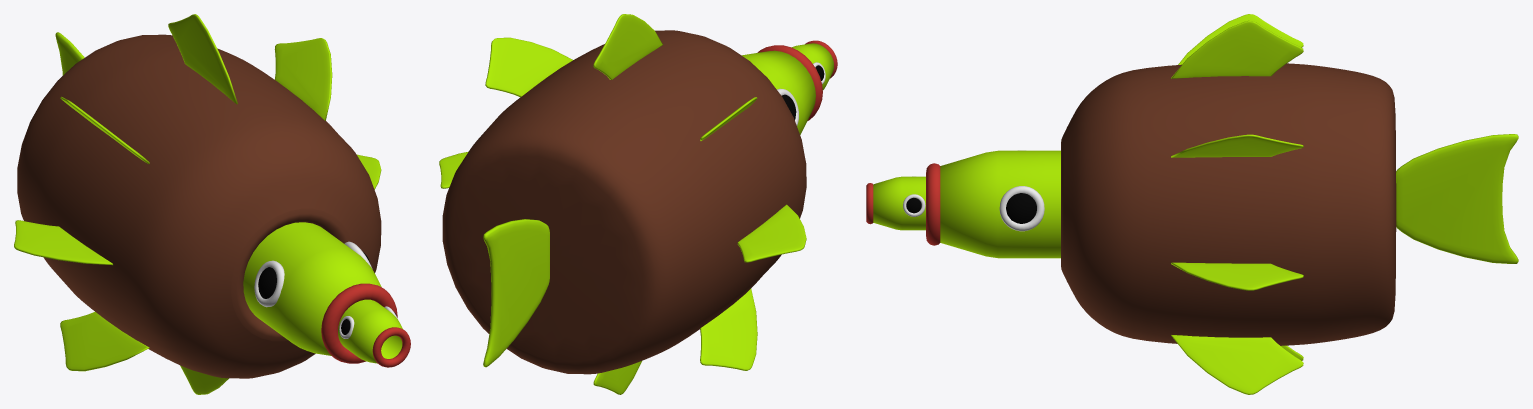
Rendered from JarFish.fbx.
The picture shows the model from 3 angles, left to right: view 1: azimuth 30°, elevation 25°; view 2: azimuth 150°, elevation 25°; view 3: azimuth 270°, elevation 25°; orthographic projection. The views are drawn at different scales.
Visible parts, largest first — view 1: Jar, Fins, FishBody, BodySmall, MouthBig, MouthSmall, EyeLids, BackFin, Eyes; view 2: Jar, Fins, BackFin, FishBody, MouthBig, BodySmall; view 3: Jar, Fins, BackFin, FishBody, BodySmall, MouthBig, EyeLids, Eyes.
Part boxes in pixels (x1,y1,x2,y2): Jar: (17,34,381,378); Fins: (14,14,381,394); FishBody: (243,222,381,355); BodySmall: (338,299,402,363); MouthBig: (321,283,397,363); MouthSmall: (372,327,410,367); EyeLids: (254,241,372,307); BackFin: (55,32,84,75); Eyes: (258,251,370,298); Jar: (442,30,806,374); Fins: (439,14,806,394); BackFin: (483,219,549,367); FishBody: (742,50,815,134); MouthBig: (757,45,822,120); BodySmall: (791,43,833,90); Jar: (1061,63,1396,345); Fins: (1171,14,1303,394); BackFin: (1396,134,1518,263); FishBody: (940,150,1060,258); BodySmall: (873,176,925,230); MouthBig: (926,163,940,245); EyeLids: (999,150,1044,231); Eyes: (1006,193,1036,223).
Size of the model in its own units: 377 by 377 by 607.
